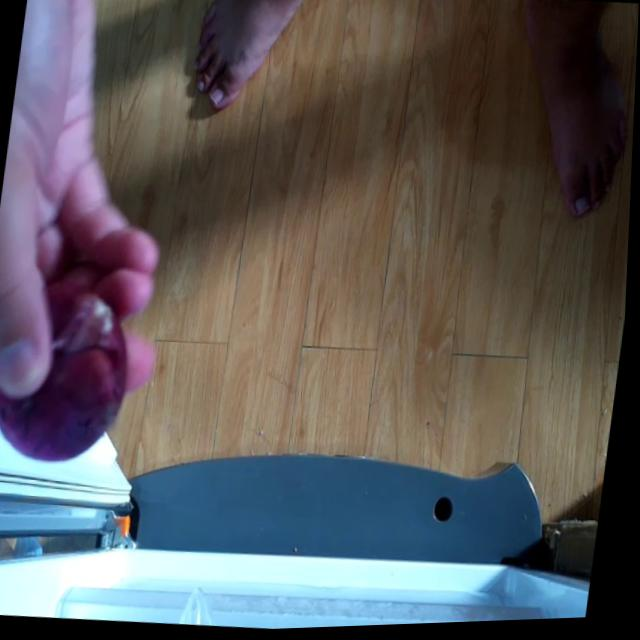onion: (0, 272, 141, 460)
